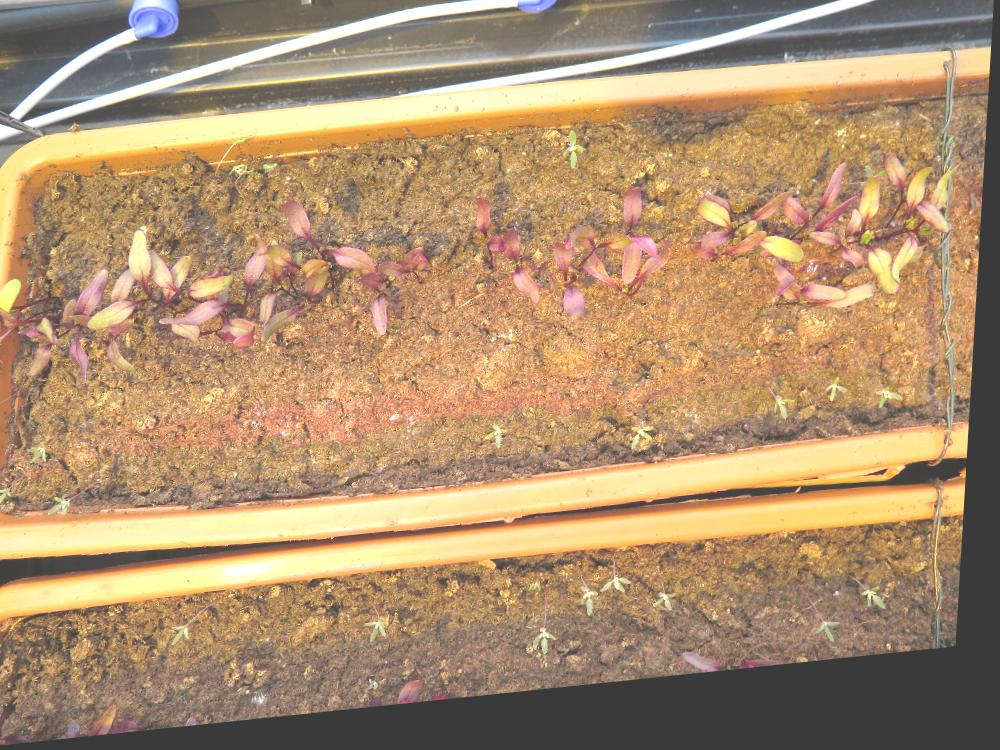weed: (563, 138, 588, 183), (537, 635, 565, 668), (607, 584, 639, 612), (867, 602, 895, 633), (879, 402, 911, 429), (30, 436, 54, 469), (51, 492, 78, 520), (489, 431, 514, 461), (635, 436, 660, 466), (821, 637, 848, 664), (778, 408, 802, 438), (657, 602, 684, 628), (586, 596, 606, 631), (828, 393, 853, 420), (370, 625, 395, 651), (176, 623, 198, 651), (0, 484, 18, 507), (533, 591, 551, 607), (0, 394, 4, 427)
